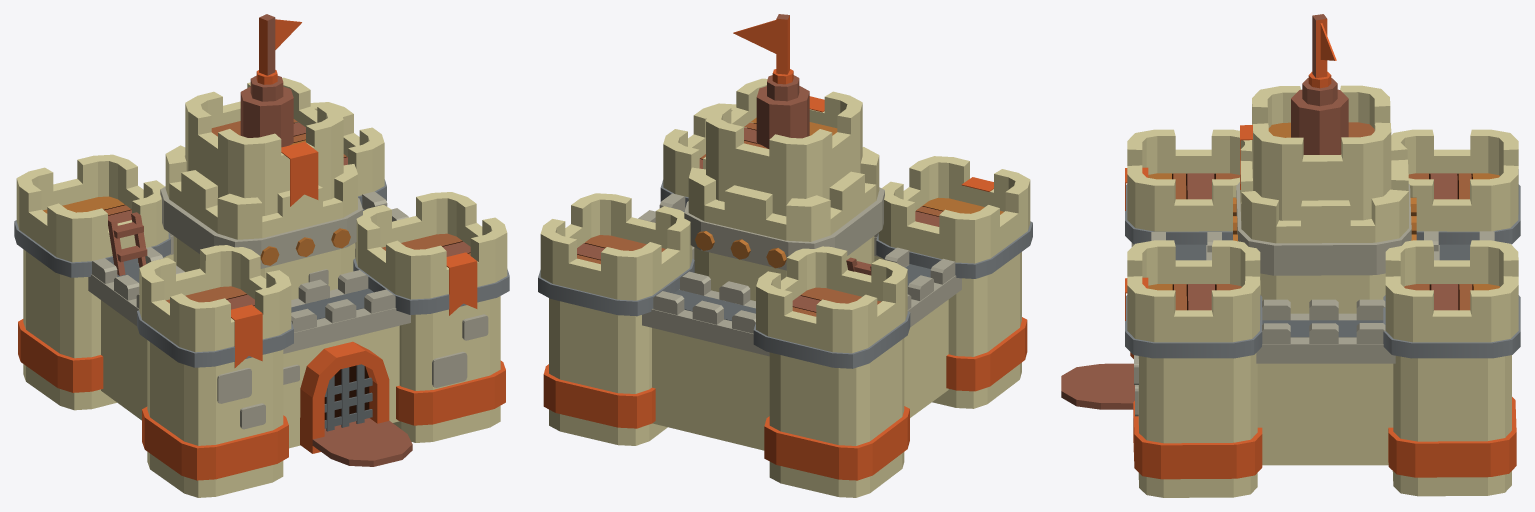
File: TownHall.fbx
The picture shows the model from 3 angles, left to right: view 1: azimuth 30°, elevation 25°; view 2: azimuth 150°, elevation 25°; view 3: azimuth 270°, elevation 25°; orthographic projection. The views are drawn at different scales.
Visible parts, largest first — view 1: TownHall; view 2: TownHall; view 3: TownHall.
Boxes of the visible parts, x1,y1,x2,y2 form: TownHall: (14,14,509,497); TownHall: (538,14,1032,497); TownHall: (1061,14,1520,497).
Size of the model in its own units: 438 by 485 by 504.
